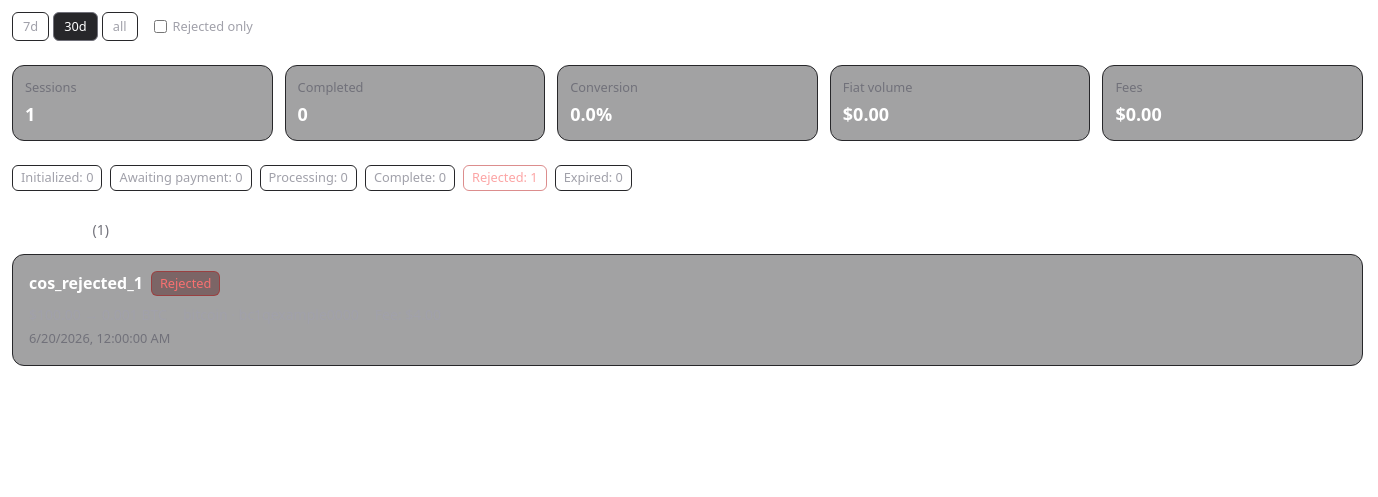
Test case: OnrampManager › expands a row and shows the View in Stripe deep-link and rejection reason
Note: Click the row button to expand
What coordinates should you click on to do the following:
click the text "cos_rejected_1"
I would click on:
 (86, 283)
Its box is [29,271,143,295].
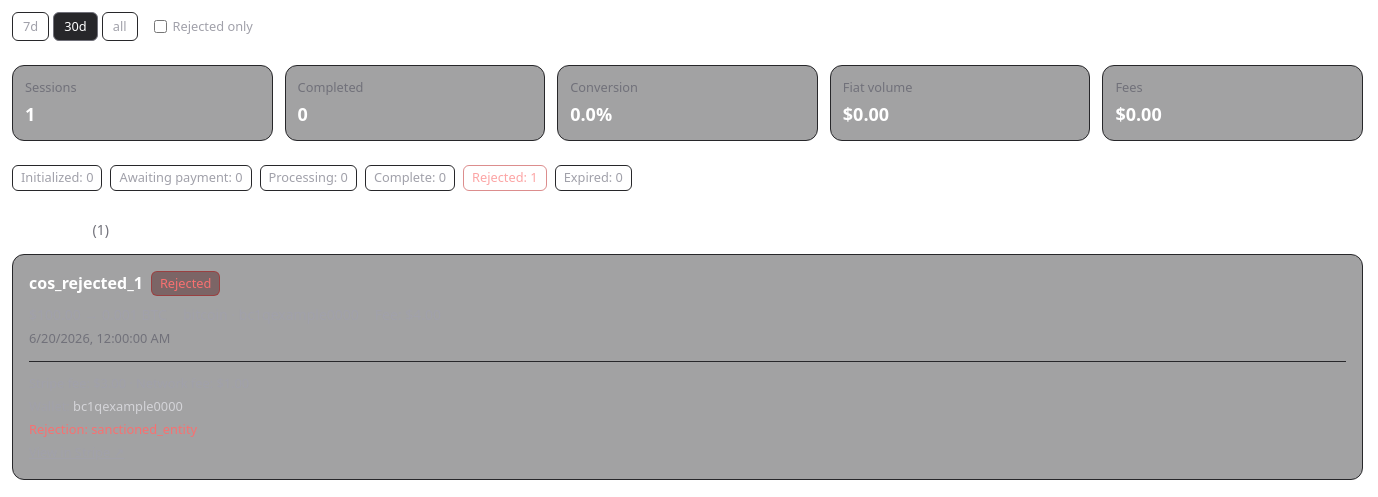
expect the text "Rejection: sanctioned_entity" is shown: met, box [29,420,197,438]
